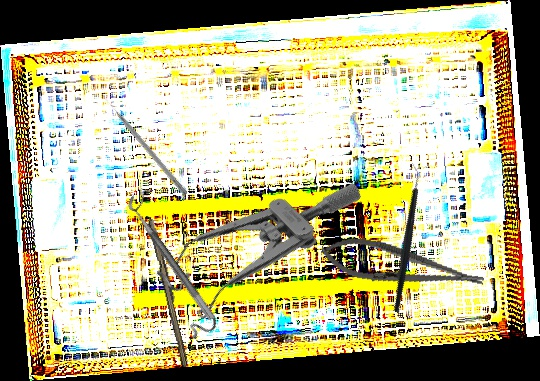Chopper: (344, 162, 466, 314)
Fixation Ring: (124, 189, 226, 322)
Needle Holder: (317, 230, 488, 303)
Pusher: (102, 94, 190, 197)
Scalpel Handle: (145, 217, 193, 368)
Speculum: (140, 127, 365, 356)
